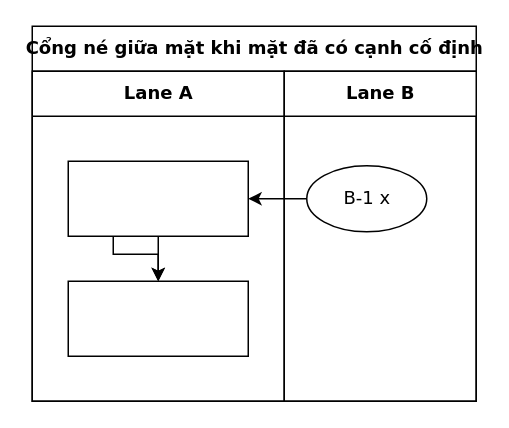
The diagram is 509 pixels wide and 428 high, and some of its shapes have lost their labels. Each missing label, with the centre of its shape:
A-2 x: the point at 157,198
A-3 x: the point at 157,318
